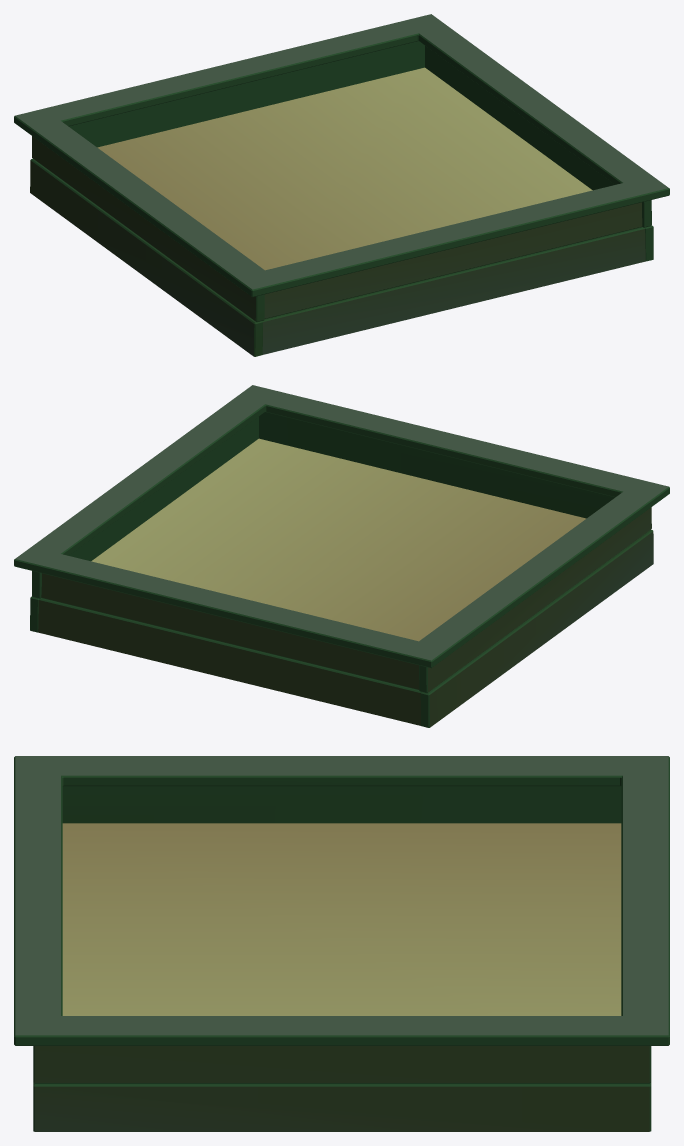
File: Sandbox.fbx
3 renders of one model, top to bottom at view 1: azimuth 30°, elevation 25°; view 2: azimuth 150°, elevation 25°; view 3: azimuth 270°, elevation 25°, orthographic. The views are drawn at different scales.
Parts seen in each view (by area): view 1: Cube.037; view 2: Cube.037; view 3: Cube.037.
Boxes of the visible parts, x1=… form: Cube.037: x1=14, y1=14, x2=669, y2=356; Cube.037: x1=14, y1=385, x2=669, y2=727; Cube.037: x1=14, y1=756, x2=669, y2=1131.
Size of the model in its own units: 689 by 118 by 681.
